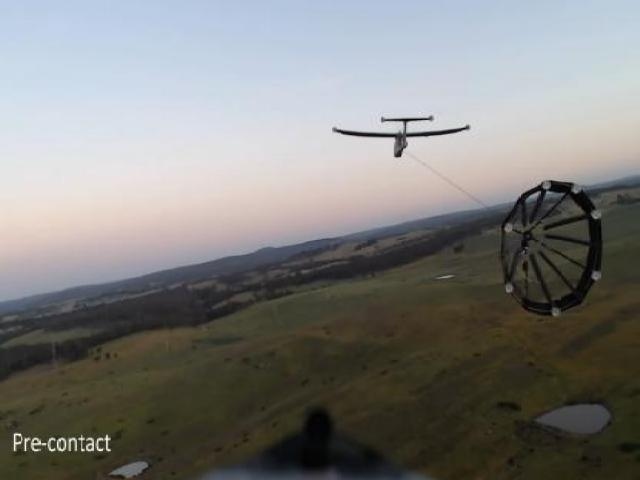uav: (335, 110, 473, 156)
